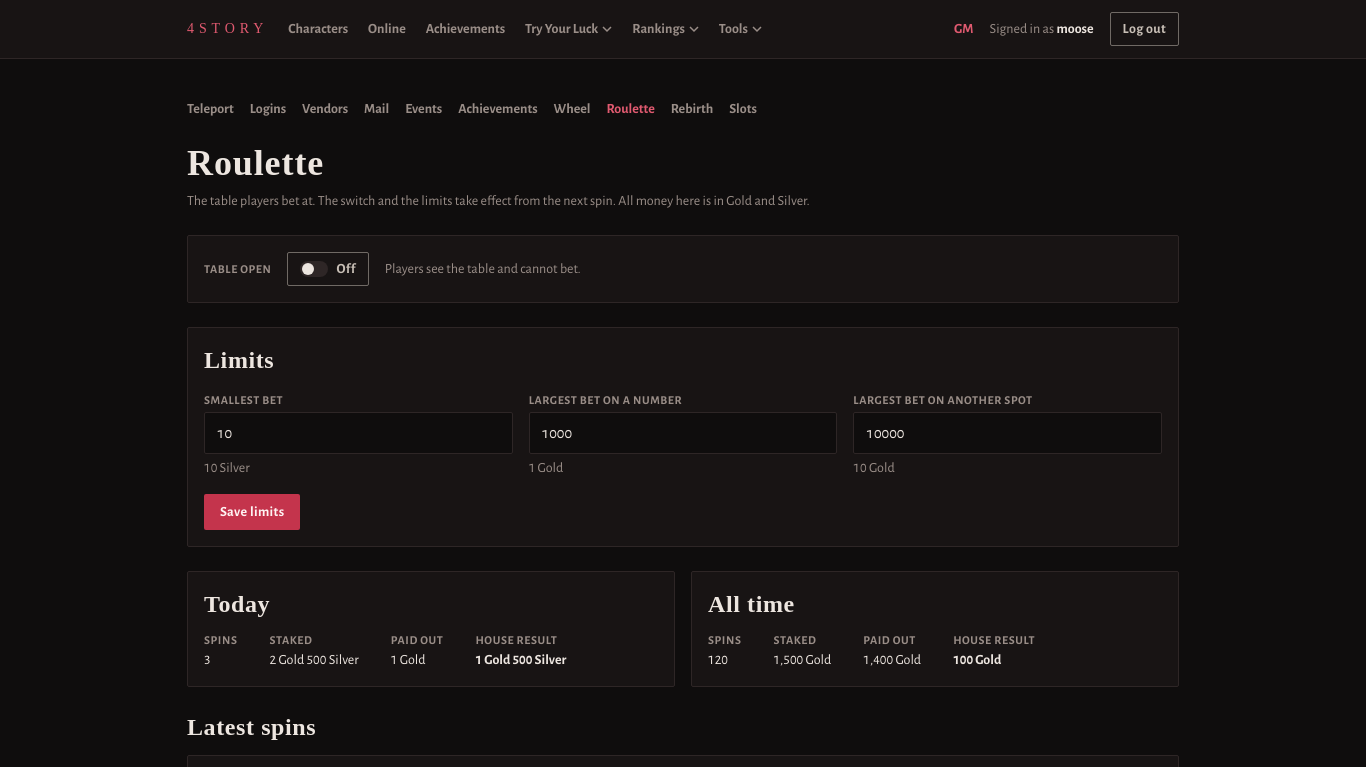
Test: GM roulette page › does not send a smallest bet above a largest
Step 1. Replace the text in the number field labelled "Smallest bet" with "5000" → (358, 433), box [204, 412, 513, 454]
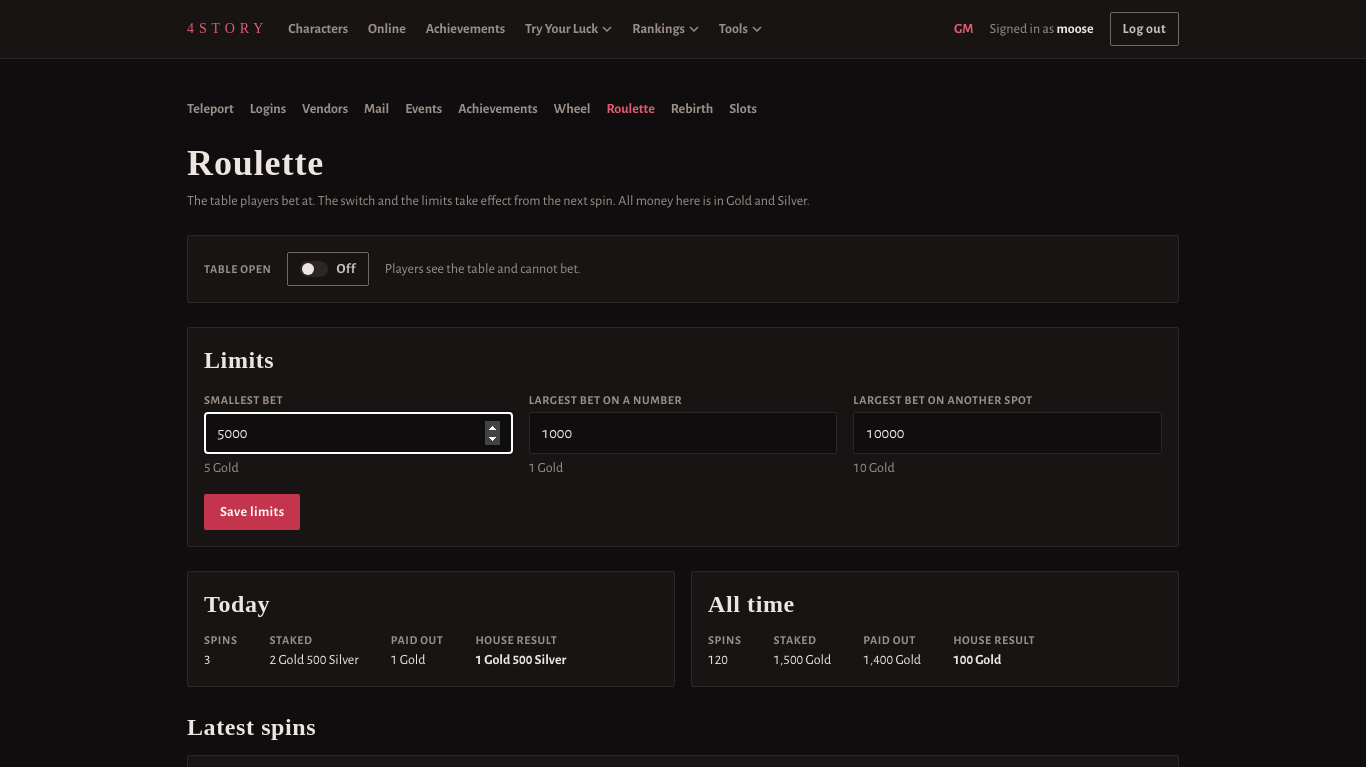
Step 2. Click the button "Save limits" → (252, 512), box [204, 494, 300, 530]
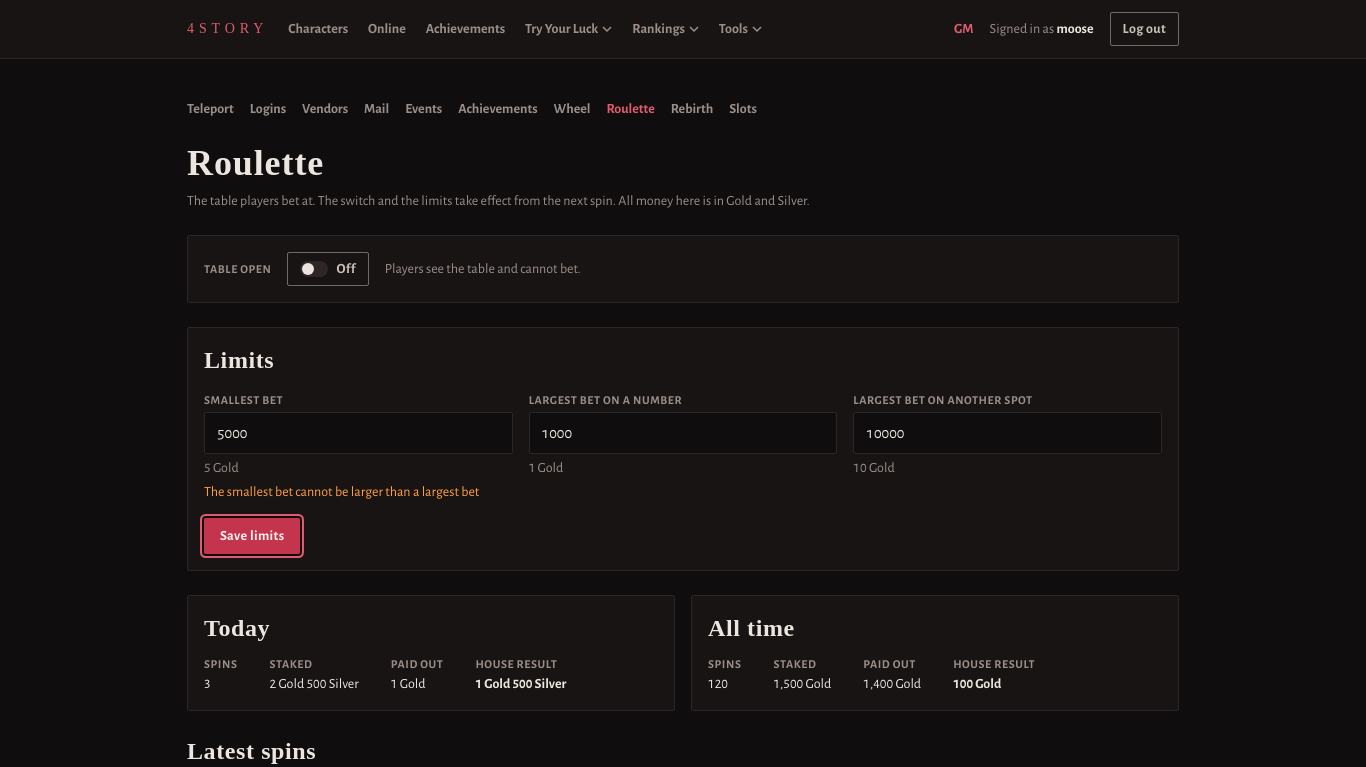
Expected: the message reads "The smallest bet cannot be larger than a largest bet", [204, 485, 479, 499]
